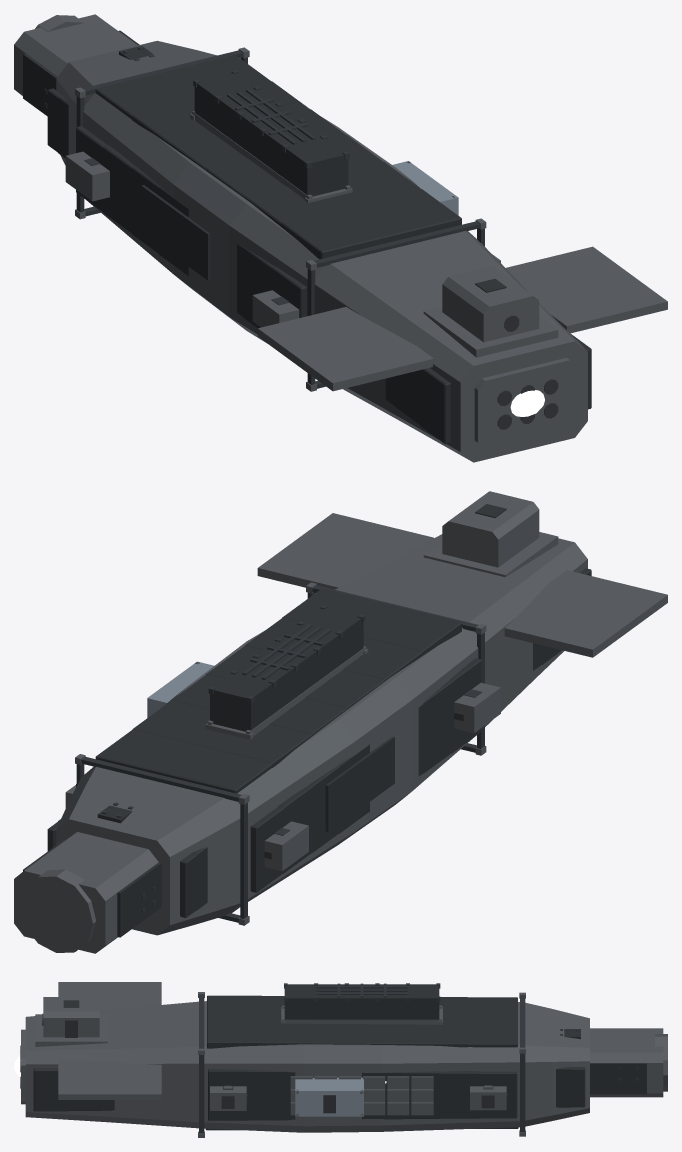
The picture shows the model from 3 angles, top to bottom: view 1: azimuth 30°, elevation 25°; view 2: azimuth 150°, elevation 25°; view 3: azimuth 270°, elevation 25°; orthographic projection. The views are drawn at different scales.
Parts seen in each view (by area): view 1: RIMWARD_HULL, RIMWARD_ENGINE_GLOW; view 2: RIMWARD_HULL; view 3: RIMWARD_HULL.
Boxes of the visible parts, box(x1,y1,x2,y2) form: RIMWARD_HULL: box(14, 14, 667, 462); RIMWARD_ENGINE_GLOW: box(510, 390, 544, 416); RIMWARD_HULL: box(14, 491, 667, 953); RIMWARD_HULL: box(20, 982, 667, 1137).
Size of the model in its own units: 6.96 by 3.52 by 17.14.
